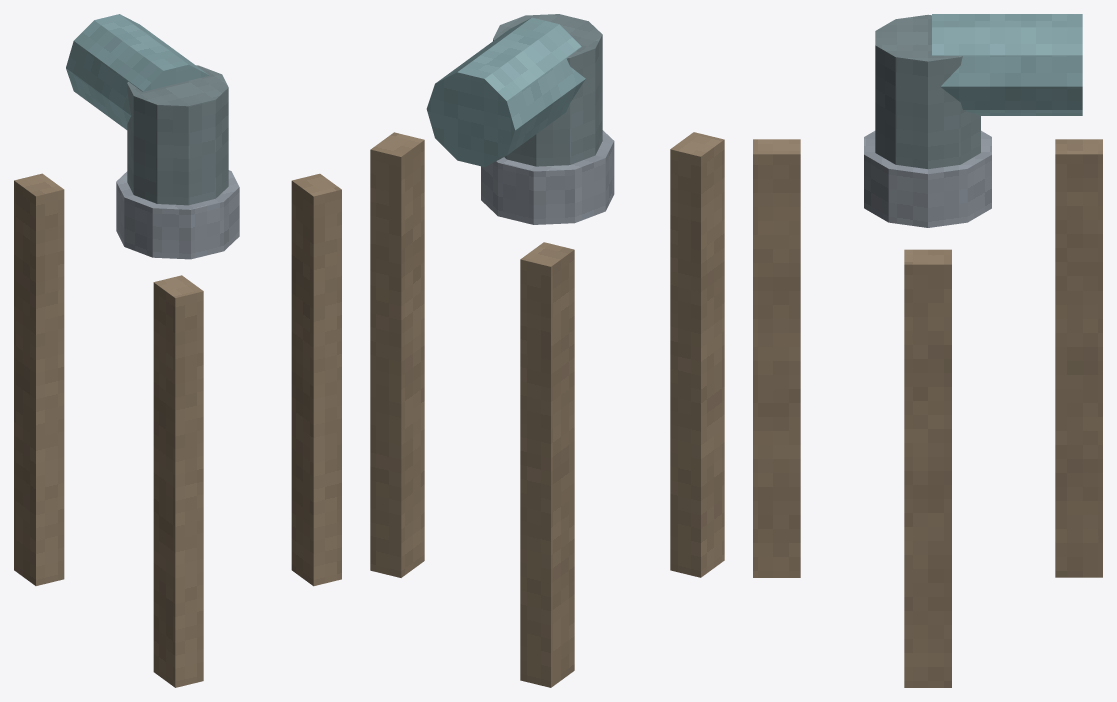
File: level_blockout_cave_survey_tripod.glb
3 renders of one model, left to right at view 1: azimuth 30°, elevation 25°; view 2: azimuth 150°, elevation 25°; view 3: azimuth 270°, elevation 25°, orthographic. The views are drawn at different scales.
Parts seen in each view (by area): view 1: level_blockout_cave_survey_tripod; view 2: level_blockout_cave_survey_tripod; view 3: level_blockout_cave_survey_tripod.
Boxes of the visible parts, x1=… form: level_blockout_cave_survey_tripod: x1=14, y1=14, x2=341, y2=687; level_blockout_cave_survey_tripod: x1=370, y1=14, x2=724, y2=687; level_blockout_cave_survey_tripod: x1=753, y1=14, x2=1102, y2=687.
Size of the model in its own units: 0.7495 by 1.63 by 0.8833.
Materials: 4 (4 with a texture image).
